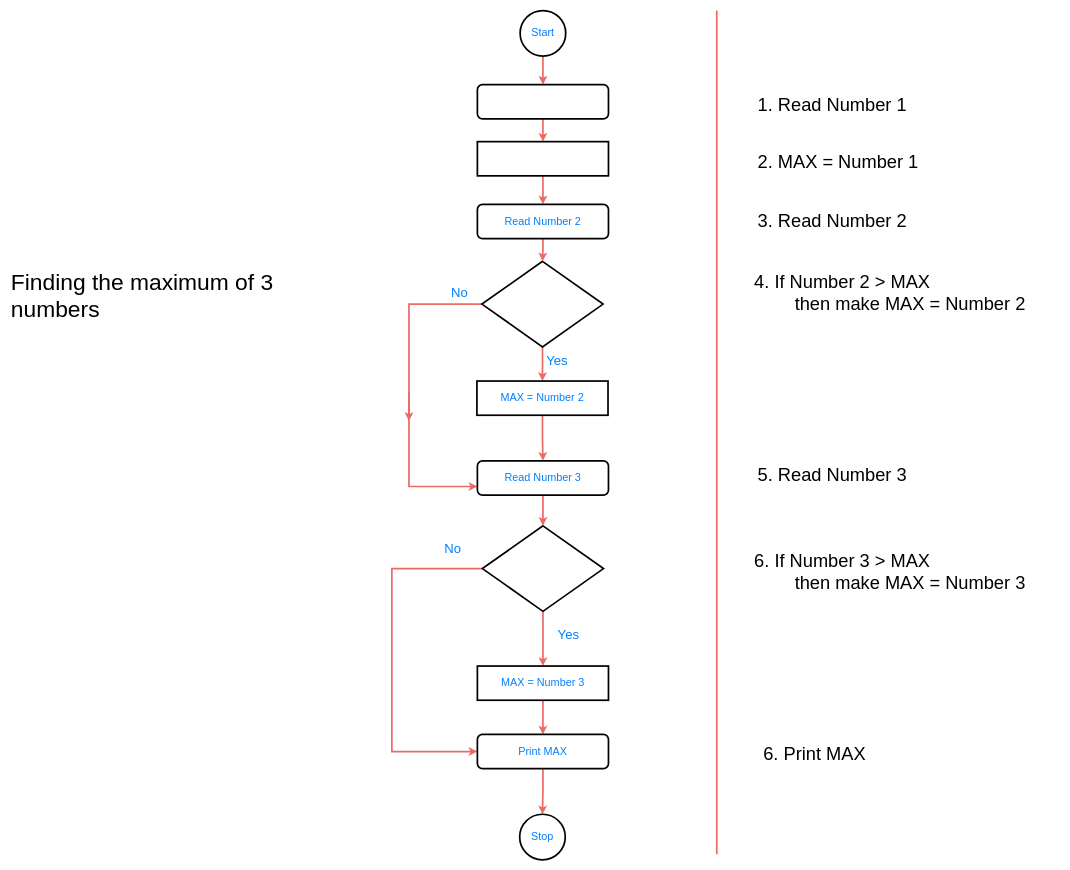
The diagram is 1070 pixels wide and 870 high, and some of its shapes have lost their labels. The shapes that lost their labels are listed below. From the top down, each one's box as (x1, y1, x2, y2) in pixels, then its label:
(476, 84, 609, 119): Read Number 1
(476, 141, 609, 176): MAX = Number 1
(481, 260, 604, 347): Number 2 > Max
(481, 525, 604, 612): Number 3 > Max
